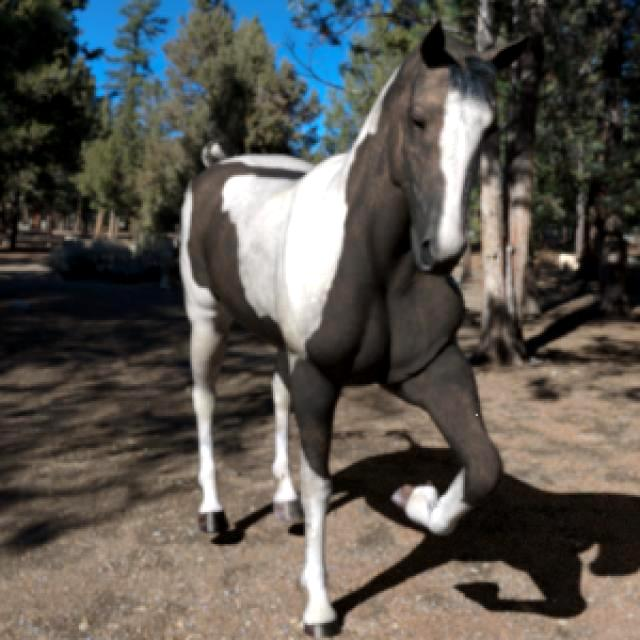horse: (180, 22, 523, 637)
